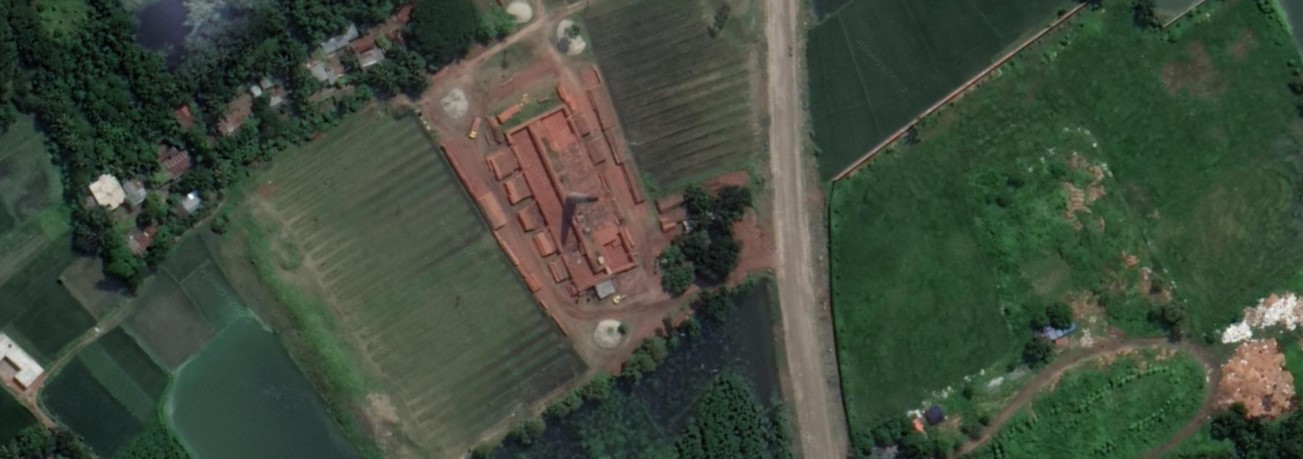kiln: (470, 128, 641, 264)
